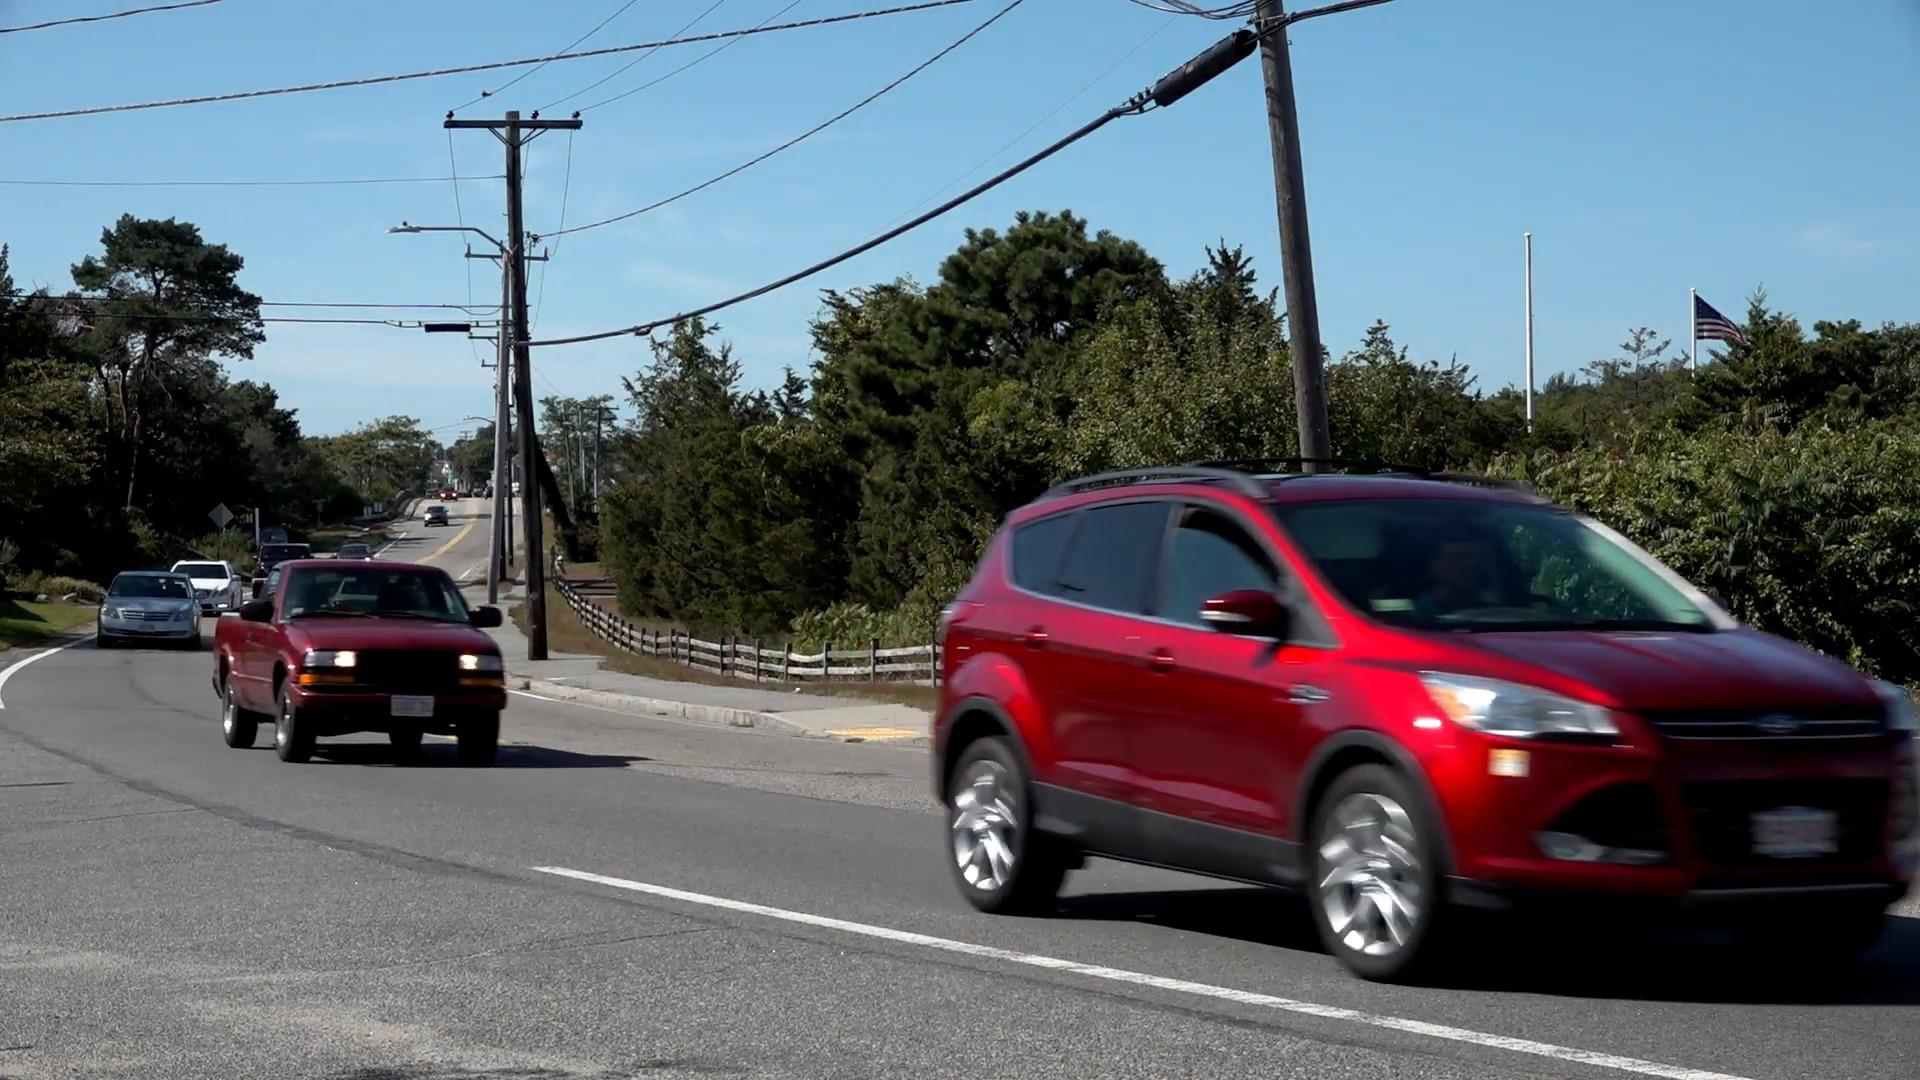pickup: (211, 560, 503, 763)
sedans: (98, 566, 199, 641)
suv: (937, 460, 1917, 983)
